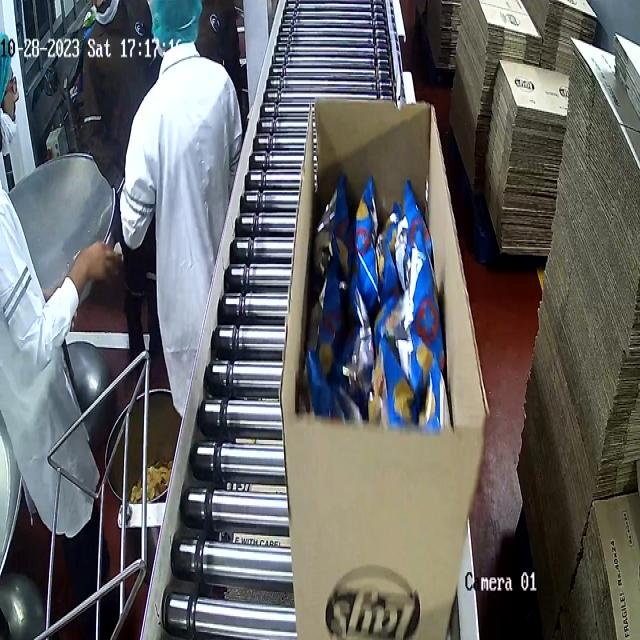PAPRIKA: (310, 178, 459, 430)
